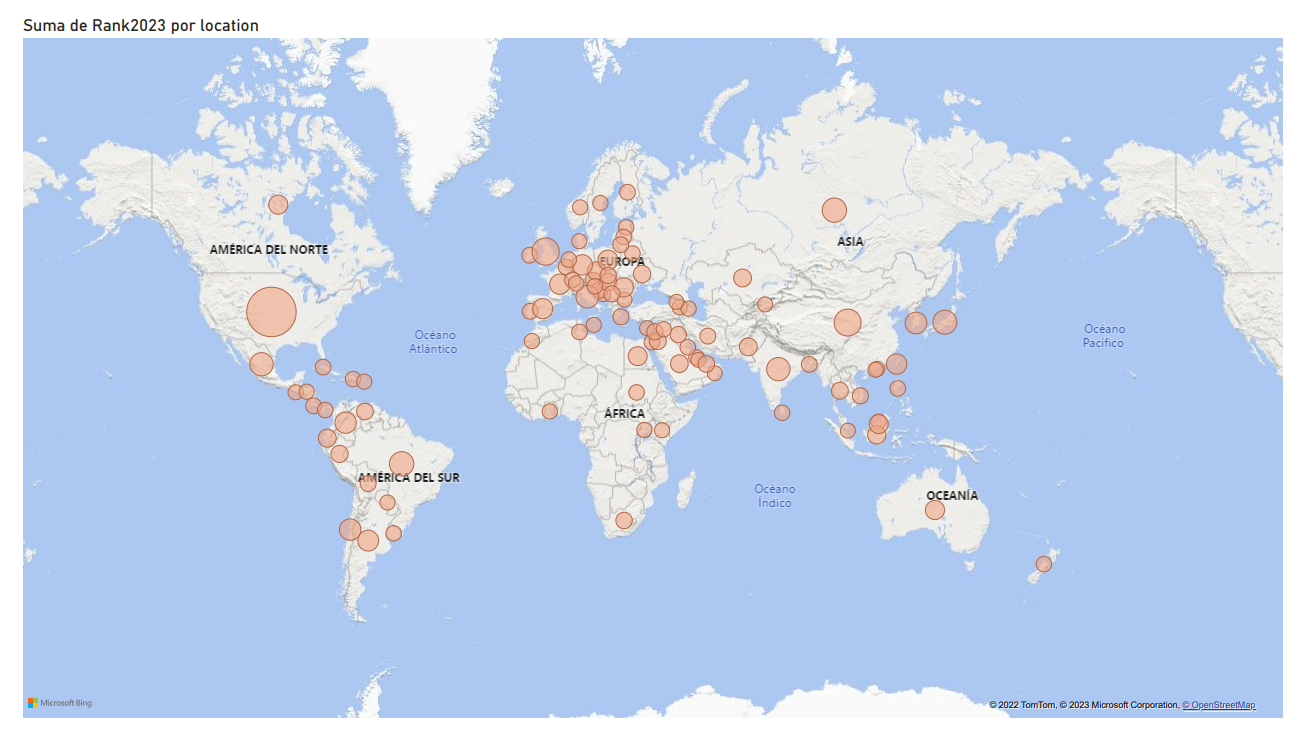

What the dashboard file says about the page in this screenshot:
{"tool":"powerbi","page":{"name":"Página 1","canvas":[1280,720],"ordinal":0},"visuals":[{"type":"map","fields":{"Category":["2023 QS World University Rankings_LIMPIO.location"]},"box":[9.7,0,1270.3,708.1],"z":0}]}

Visuals, with their boxes in screenshot pixels (x1, y1, x2, y2), scaled from the page's 1280x720 canvas onto the 1302x738 screenshot:
map - 2023 QS World University Rankings_LIMPIO.location: bbox=(10, 0, 1301, 726)
